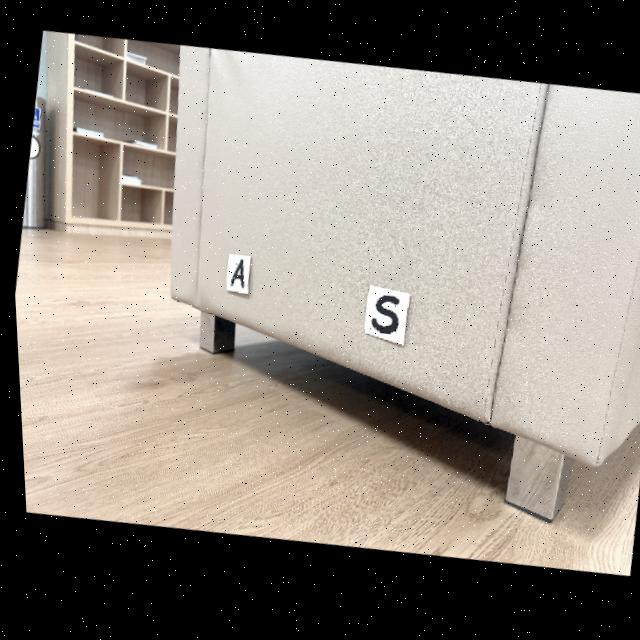A: (227, 262, 242, 291)
S: (367, 300, 396, 338)
